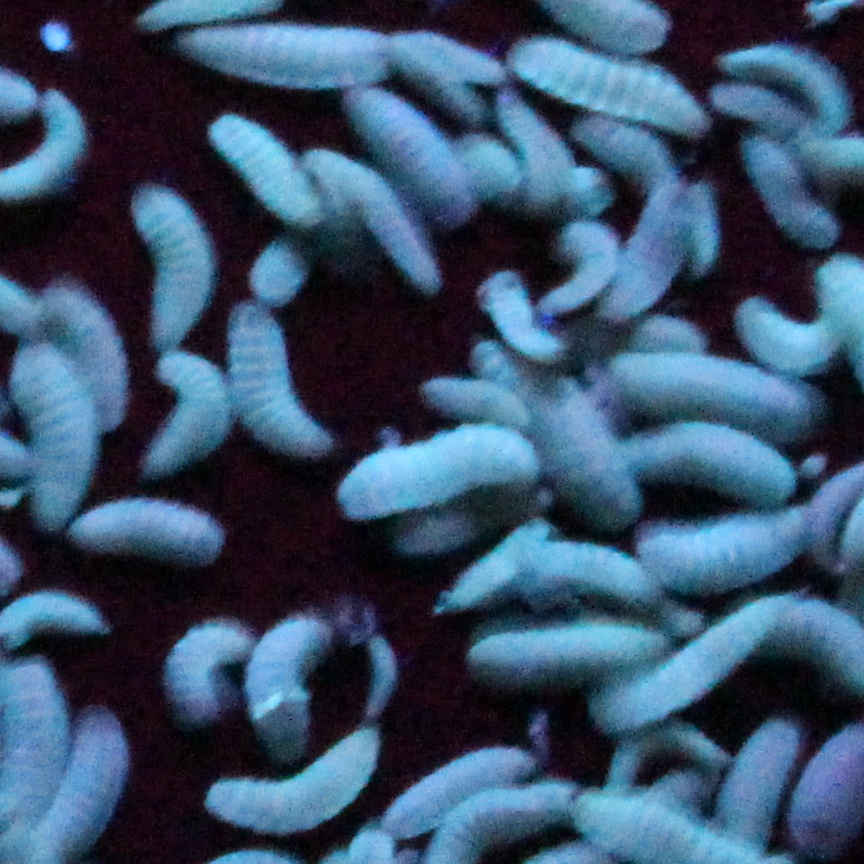larve: (224, 307, 339, 469), (107, 174, 211, 352), (608, 621, 751, 728), (183, 22, 388, 89), (148, 600, 251, 729), (3, 350, 90, 498), (340, 441, 533, 507), (459, 603, 655, 666), (203, 111, 314, 218), (630, 432, 794, 503), (451, 270, 566, 366), (57, 708, 133, 852), (128, 355, 218, 472), (725, 136, 817, 250), (648, 511, 811, 574), (62, 504, 229, 563), (203, 759, 355, 818), (338, 96, 457, 167), (733, 286, 821, 374), (521, 96, 580, 224), (506, 58, 694, 94), (721, 38, 861, 85), (36, 87, 93, 202), (262, 628, 326, 728), (397, 22, 504, 81), (251, 226, 325, 306), (458, 131, 516, 212), (713, 85, 807, 130), (692, 174, 724, 278), (586, 125, 674, 160)
